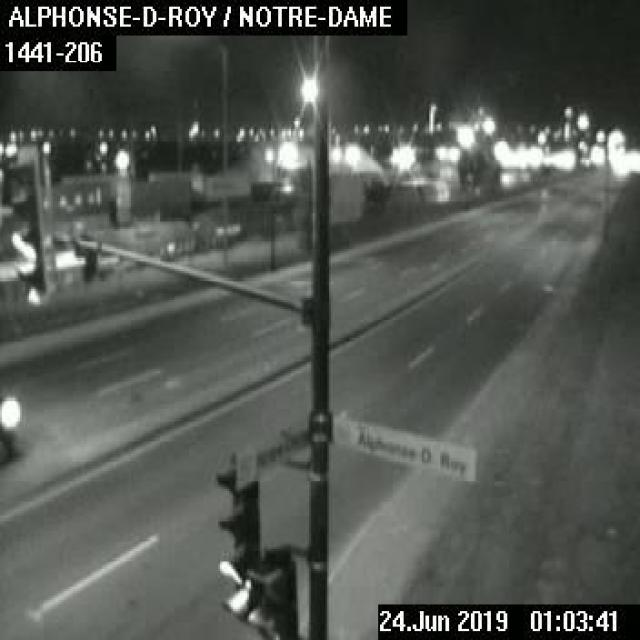vehicle: (0, 391, 11, 462)
